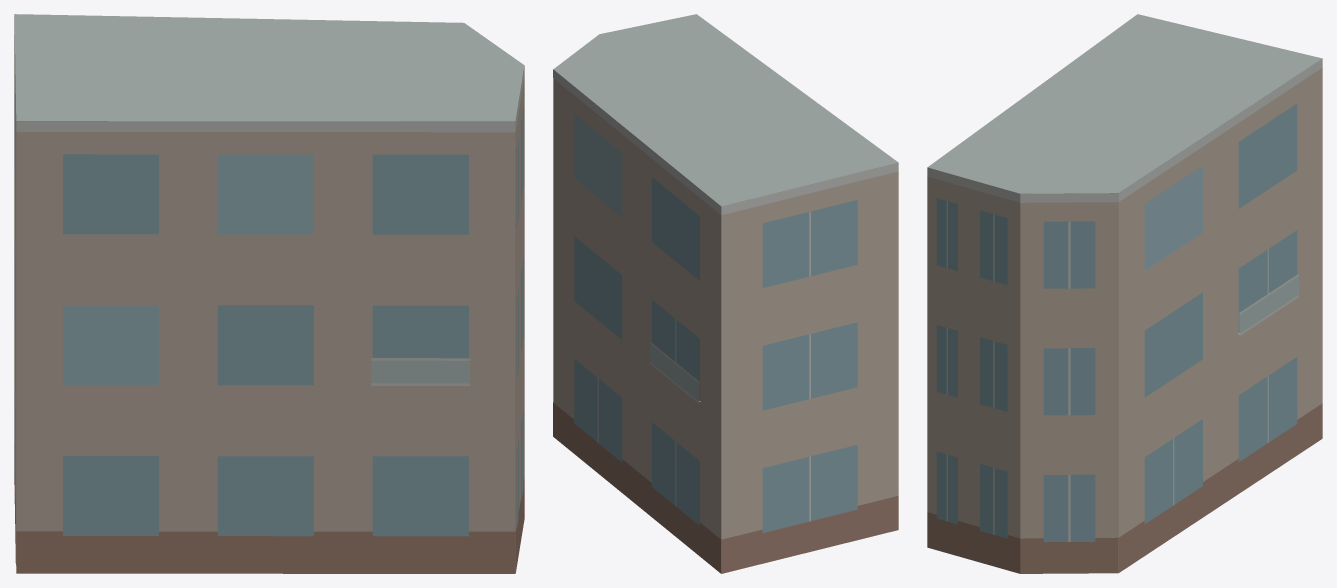
The model's file is survey-upis-32901728.glb.
The picture shows the model from 3 angles, left to right: view 1: azimuth 30°, elevation 25°; view 2: azimuth 150°, elevation 25°; view 3: azimuth 270°, elevation 25°; orthographic projection. The views are drawn at different scales.
Visible parts, largest first — view 1: survey-upis-32901728.tmp; view 2: survey-upis-32901728.tmp; view 3: survey-upis-32901728.tmp.
Part boxes in pixels (<box>): survey-upis-32901728.tmp: <box>14,14,524,573</box>; survey-upis-32901728.tmp: <box>553,14,898,573</box>; survey-upis-32901728.tmp: <box>927,14,1322,573</box>.
Bounding box in the file's own units: 10.35 × 10.2 × 9.62.
